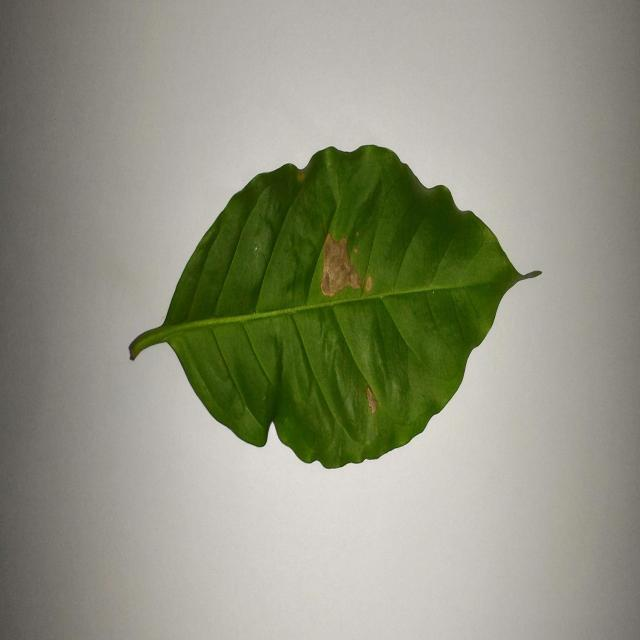miner: (308, 232, 374, 303), (365, 381, 387, 416)
